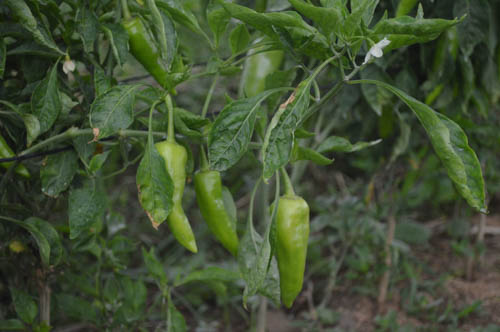ChiliPepper: (155, 142, 198, 254), (271, 196, 307, 316), (196, 170, 242, 252), (125, 19, 167, 87), (243, 38, 281, 111)
